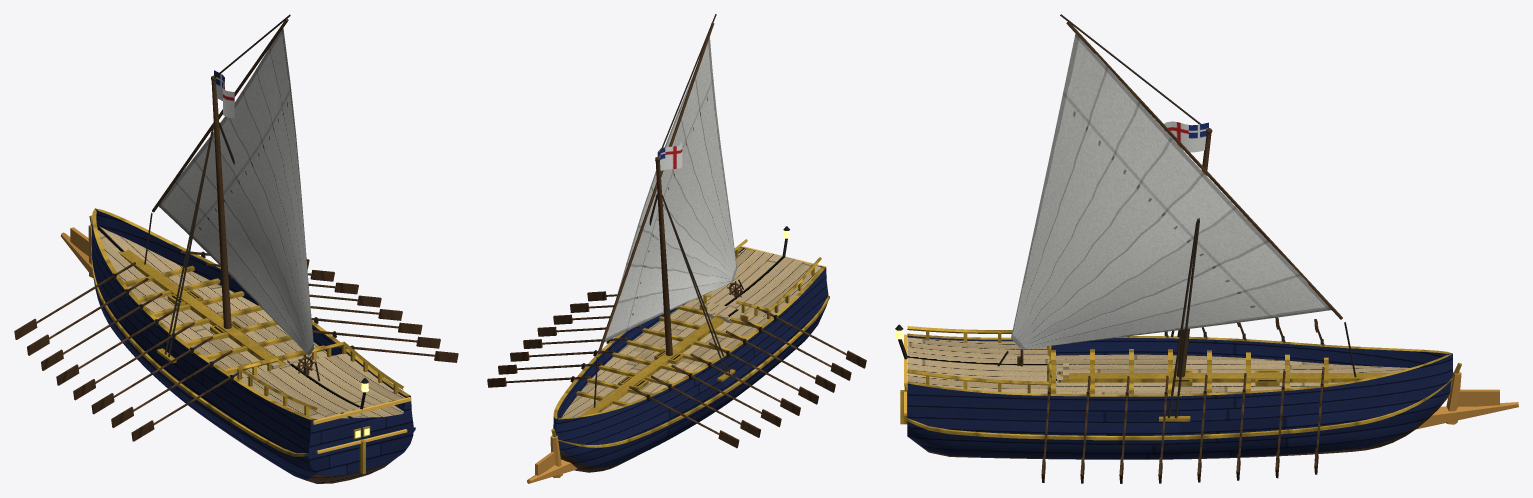
Rendered from navy_galley.glb.
3 views of the same model, side by side, from view 1: azimuth 30°, elevation 25°; view 2: azimuth 150°, elevation 25°; view 3: azimuth 270°, elevation 25° (orthographic). The views are drawn at different scales.
Visible parts, largest first — view 1: Hull, Sail0_0, OarsL, Rigging, OarsR, Flag; view 2: Hull, Sail0_0, OarsL, Rigging, OarsR, Flag; view 3: Hull, Sail0_0, Rigging, OarsR, Flag.
Part boxes in pixels (bbox=[...]): Hull: bbox=[60, 208, 415, 483]; Sail0_0: bbox=[158, 28, 314, 355]; OarsL: bbox=[14, 262, 252, 441]; Rigging: bbox=[144, 14, 319, 381]; OarsR: bbox=[180, 250, 458, 362]; Flag: bbox=[214, 70, 234, 118]; Hull: bbox=[527, 226, 829, 483]; Sail0_0: bbox=[604, 37, 737, 342]; OarsL: bbox=[629, 306, 866, 448]; Rigging: bbox=[593, 14, 743, 407]; OarsR: bbox=[487, 291, 641, 387]; Flag: bbox=[657, 142, 682, 170]; Hull: bbox=[895, 324, 1518, 459]; Sail0_0: bbox=[1011, 33, 1331, 349]; Rigging: bbox=[997, 14, 1356, 418]; OarsR: bbox=[1041, 367, 1324, 483]; Flag: bbox=[1161, 121, 1208, 152].
Size of the model in its own units: 1.65 by 2.01 by 2.63.
16 materials, 9 textured.
